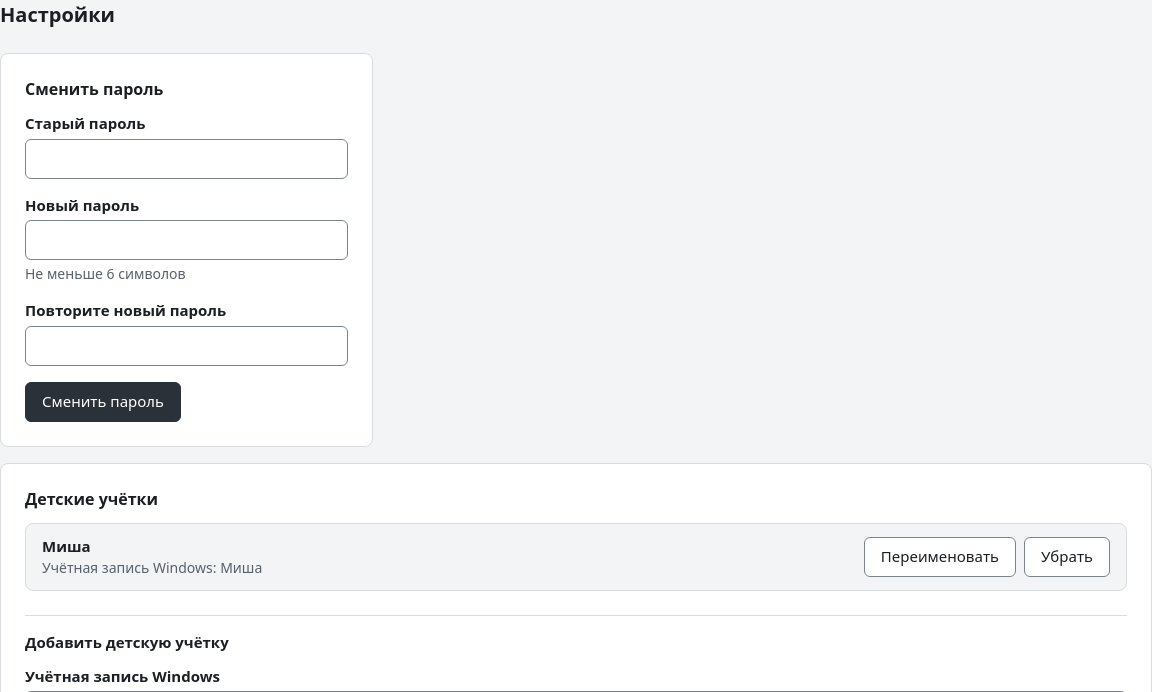
Test: Settings: детские учётки › «Отмена» и Esc ничего не убирают
Click the button with aria-label "Убрать Миша": (1067,557) [1024, 537, 1110, 577]
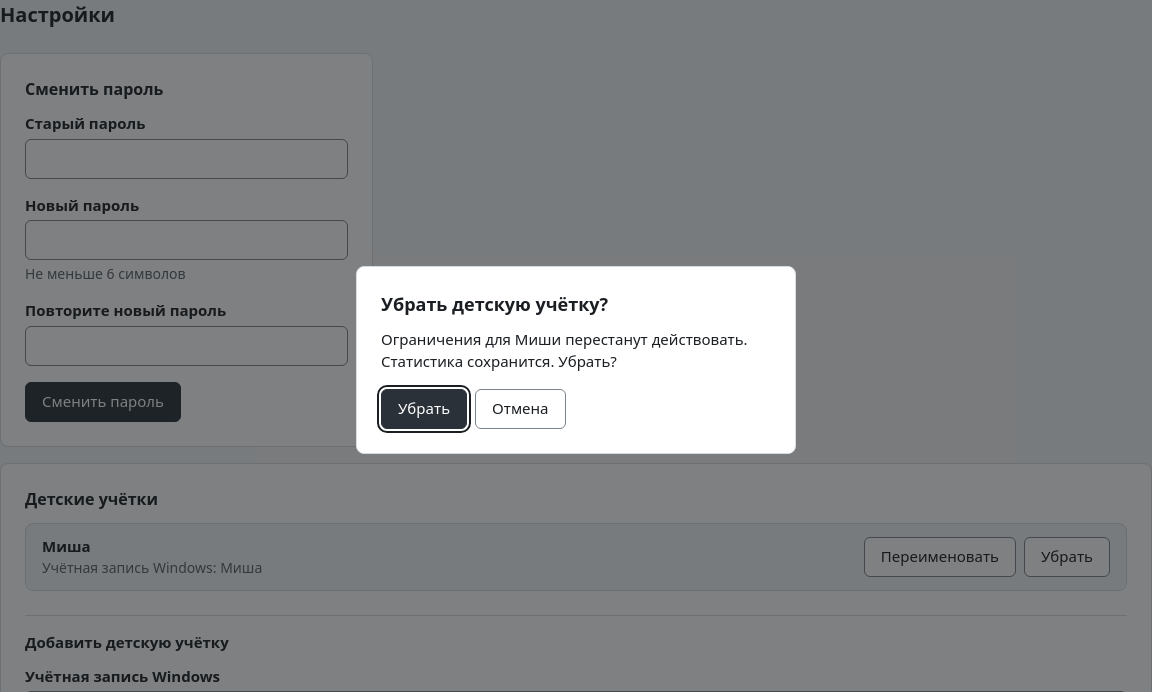
Click the button "Отмена": (520,409) [475, 389, 566, 429]
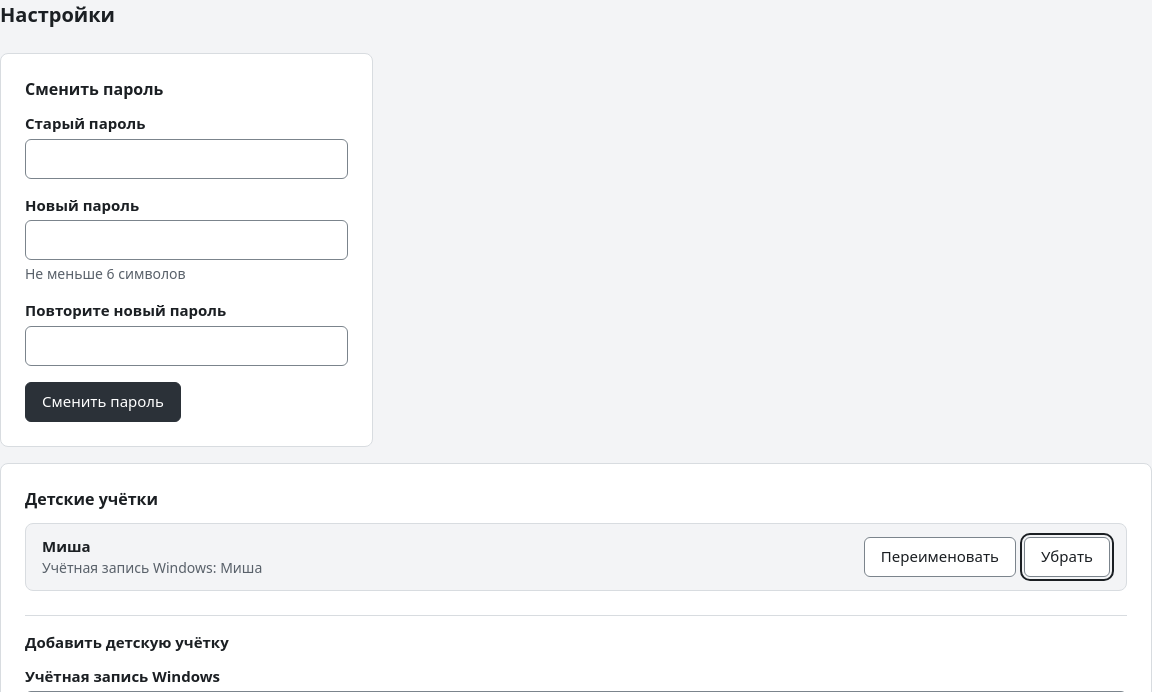
Expected: the dialog is gone
Click the button with aria-label "Убрать Миша": (1067,557) [1024, 537, 1110, 577]
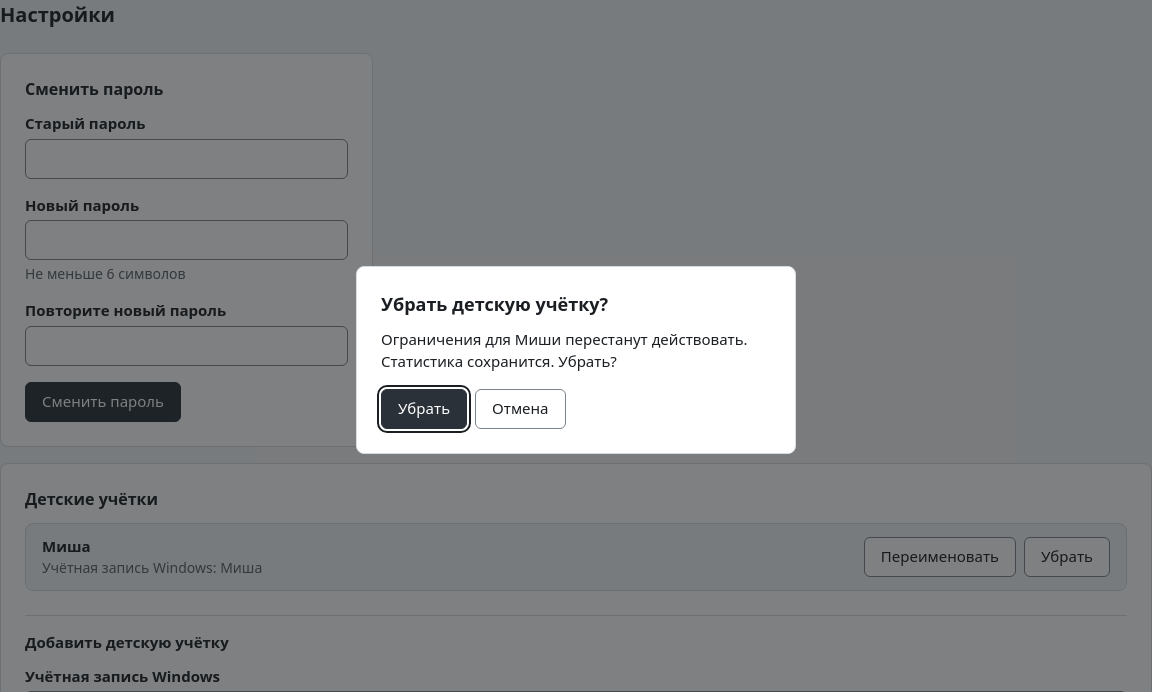
Press Escape
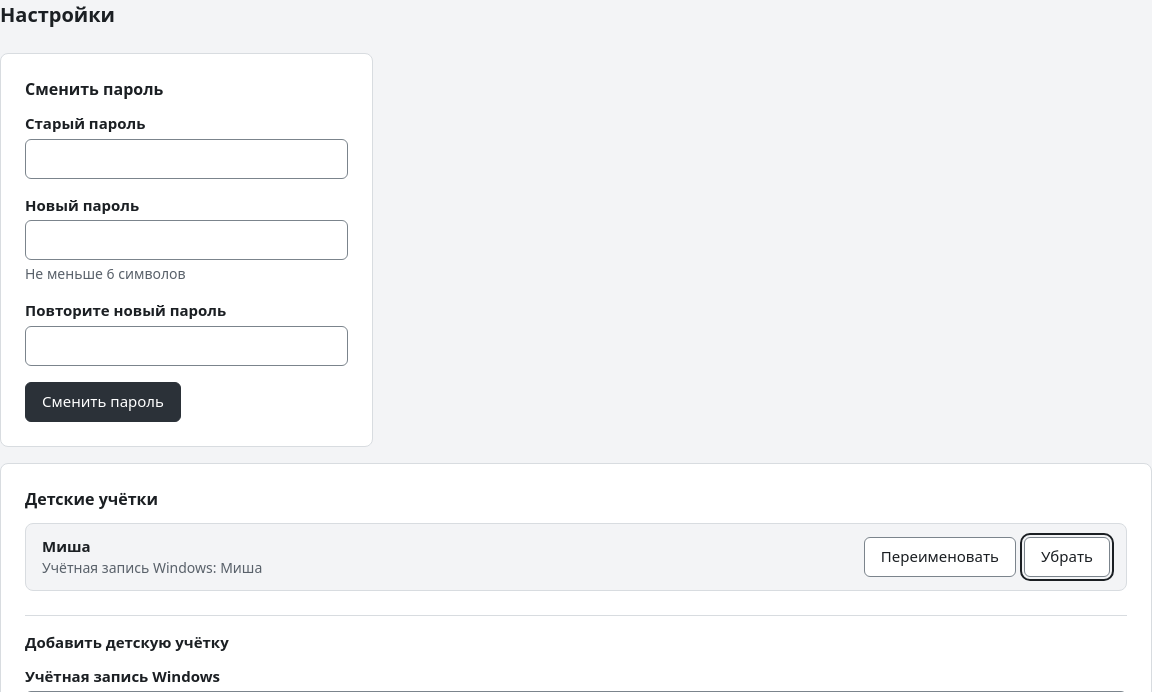
Expected: the text "Миша" is shown, [42, 536, 90, 556]
Expected: the dialog is gone
